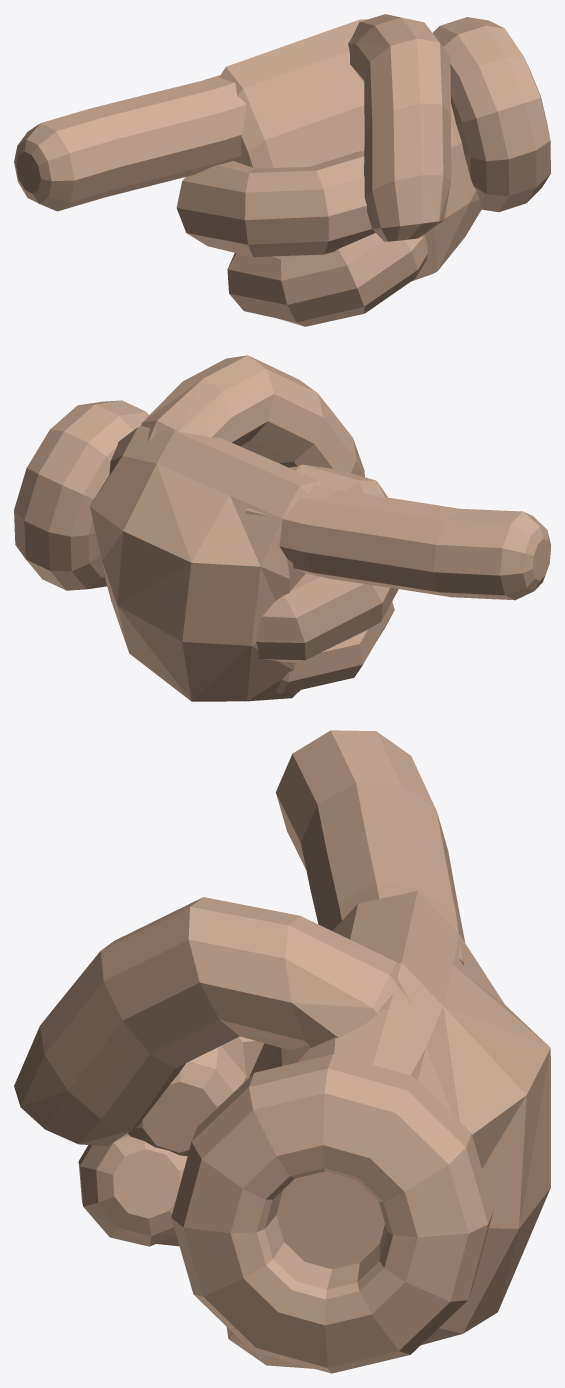
The model's file is mano.gltf.
The picture shows the model from 3 angles, top to bottom: view 1: azimuth 30°, elevation 25°; view 2: azimuth 150°, elevation 25°; view 3: azimuth 270°, elevation 25°; orthographic projection. The views are drawn at different scales.
Parts seen in each view (by area): view 1: mesh764930239; view 2: mesh764930239; view 3: mesh764930239.
Part boxes in pixels (<box>): mesh764930239: <box>14,14,550,326</box>; mesh764930239: <box>14,355,550,701</box>; mesh764930239: <box>14,730,550,1373</box>.
Size of the model in its own units: 3.57 by 1.94 by 2.03.
